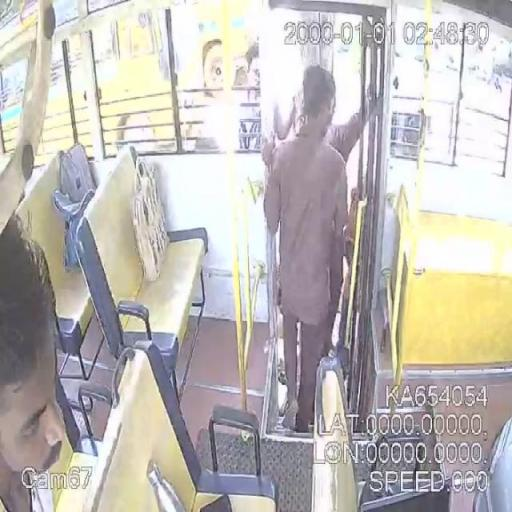persona: (260, 64, 382, 432), (261, 66, 351, 432), (0, 209, 68, 511)
